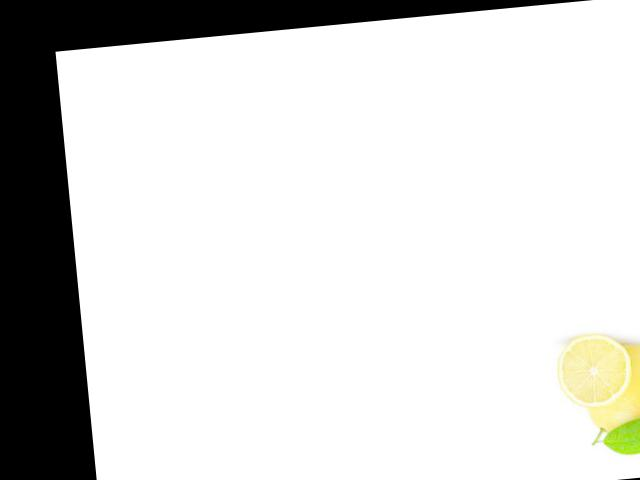lemon: (569, 332, 640, 448)
